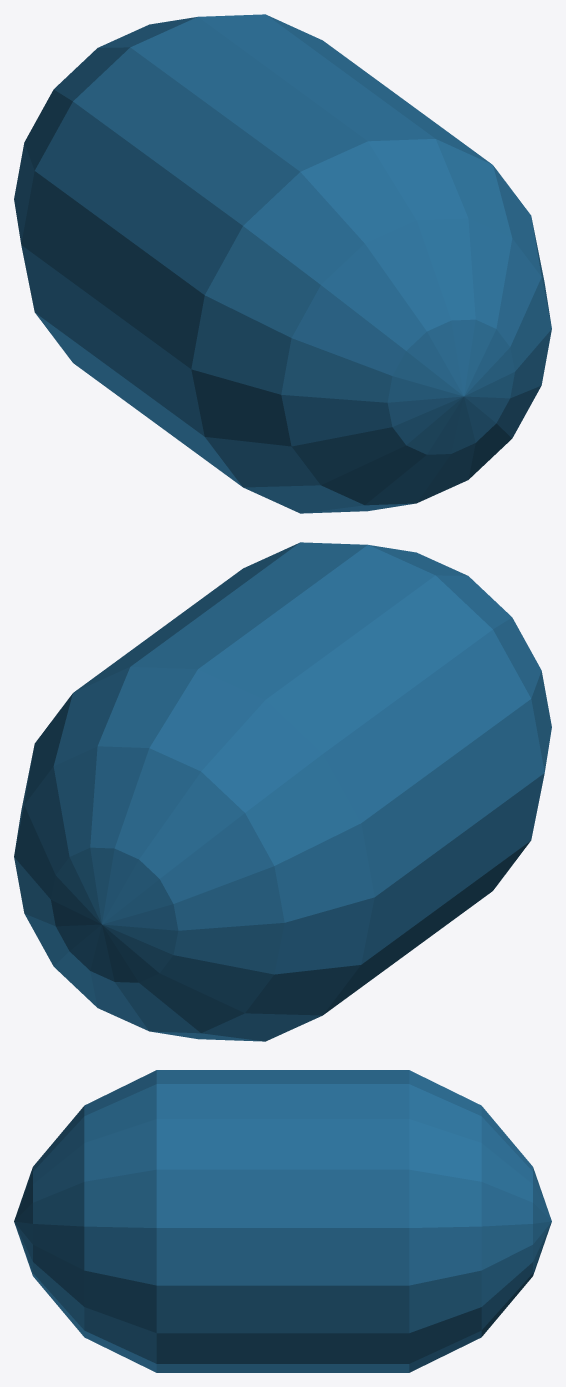
Rendered from GhostMid.glb.
3 renders of one model, top to bottom at view 1: azimuth 30°, elevation 25°; view 2: azimuth 150°, elevation 25°; view 3: azimuth 270°, elevation 25°, orthographic. The views are drawn at different scales.
Visible parts, largest first — view 1: GhostMid; view 2: GhostMid; view 3: GhostMid.
Part boxes in pixels (<box>): GhostMid: <box>14,14,551,513</box>; GhostMid: <box>14,542,551,1041</box>; GhostMid: <box>14,1070,551,1372</box>.
Bounding box in the file's own units: 2.4 × 2.4 × 4.26.
1 material, 1 textured.
